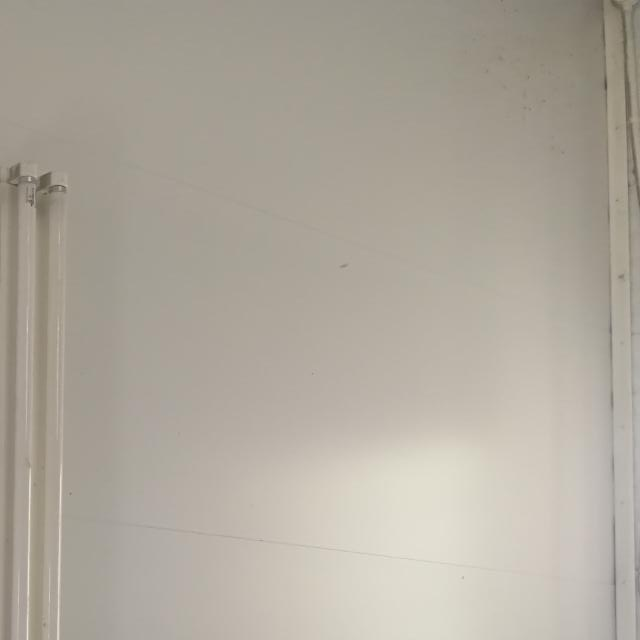fluorescent tube: (0, 148, 95, 640)
